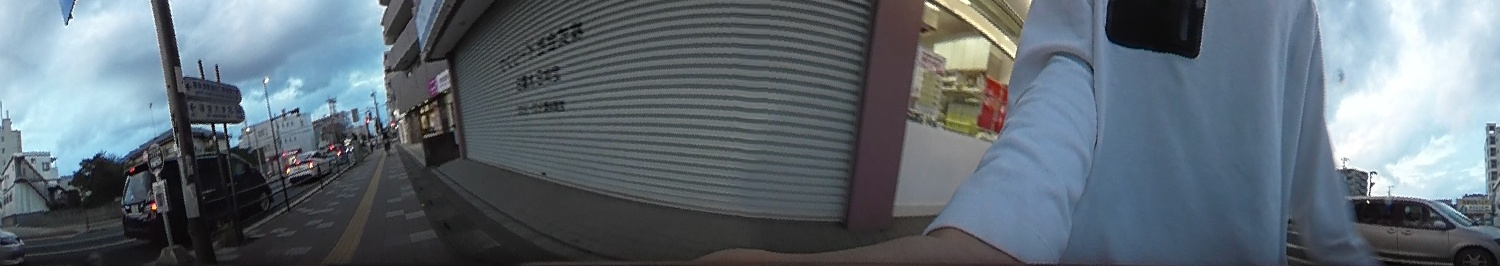difficult_person: (378, 127, 392, 152)
